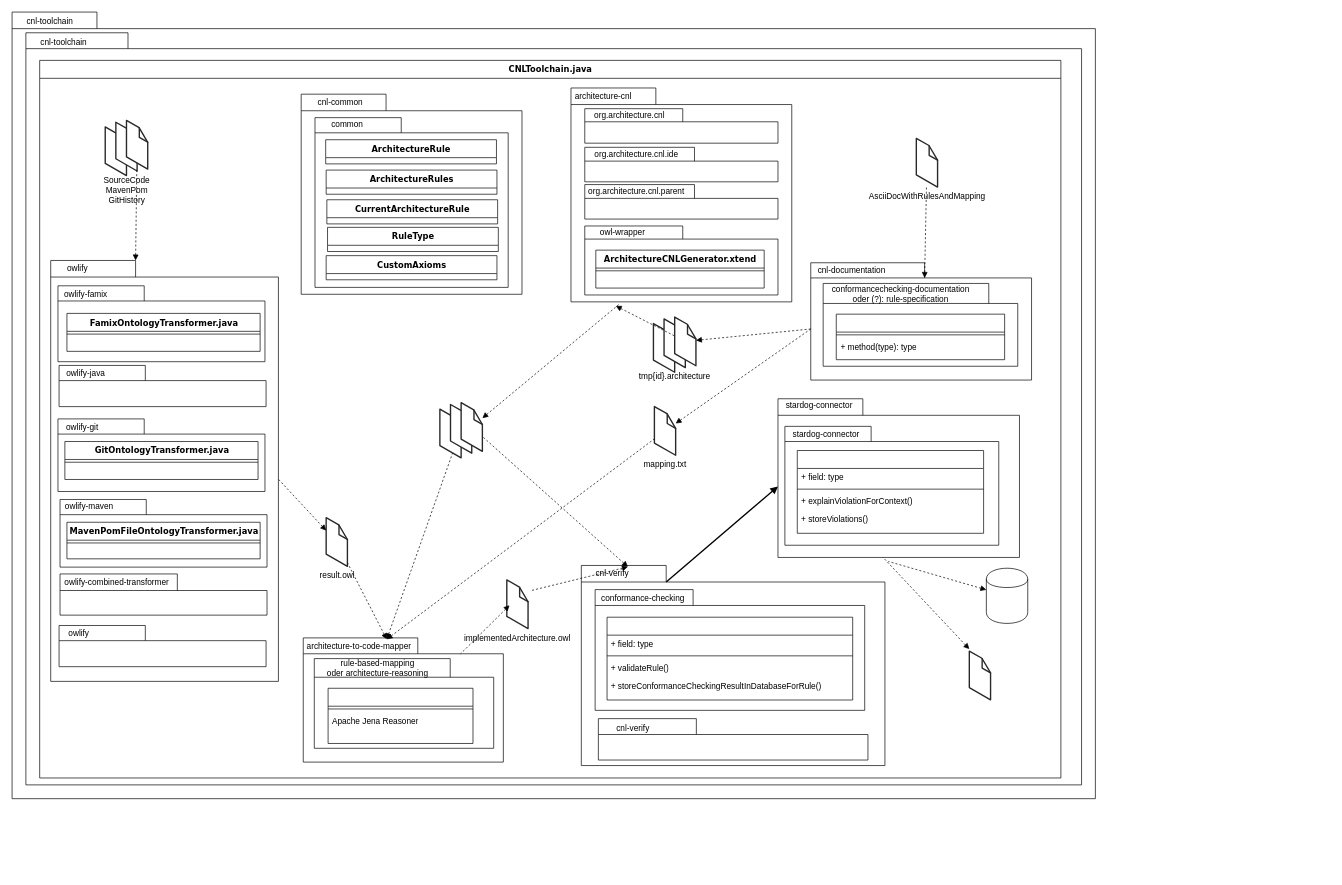
Some shapes in this 1342 by 885 pixel diagram are drawn without their labels. The box of each missing label's shape, as (x1, y1, x2, y2) in pixels:
architecture{id}.owl: (450, 404, 472, 453)
AsciiDocArc42Parser.java: (836, 313, 1005, 360)
check.owl: (969, 650, 991, 700)
ConformanceCheckImpl.java: (606, 617, 853, 700)
ExecuteMappingAPIImpl.java: (327, 688, 473, 743)
StardogICVAPIImpl.java: (797, 450, 984, 533)
